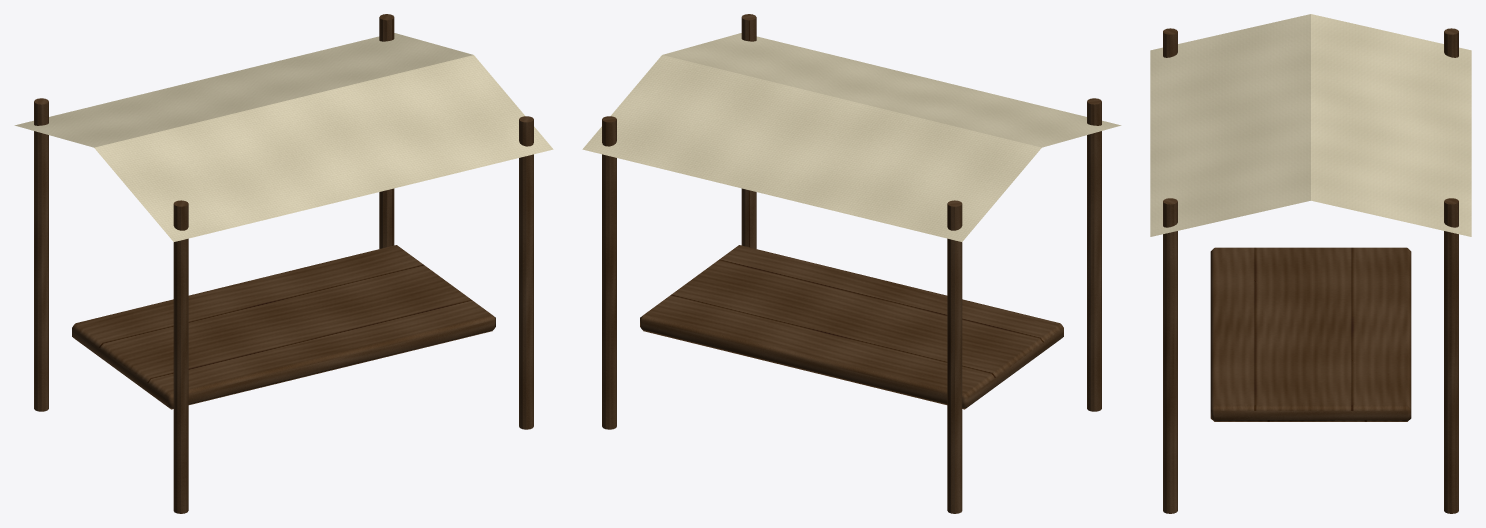
The model's file is prop_market_awning.glb.
3 renders of one model, left to right at view 1: azimuth 30°, elevation 25°; view 2: azimuth 150°, elevation 25°; view 3: azimuth 270°, elevation 25°, orthographic.
Parts seen in each view (by area): view 1: striped_sunshade, market_post; view 2: striped_sunshade, market_post; view 3: striped_sunshade, market_post.
Part boxes in pixels (box(x1,y1,x2,y2)): striped_sunshade: box(14, 33, 553, 241); market_post: box(34, 14, 533, 513); striped_sunshade: box(582, 33, 1121, 241); market_post: box(602, 14, 1101, 513); striped_sunshade: box(1150, 14, 1471, 236); market_post: box(1163, 28, 1458, 513).
Bounding box in the file's own units: 4.4 × 3.5 × 3.2.
2 materials, 2 textured.
